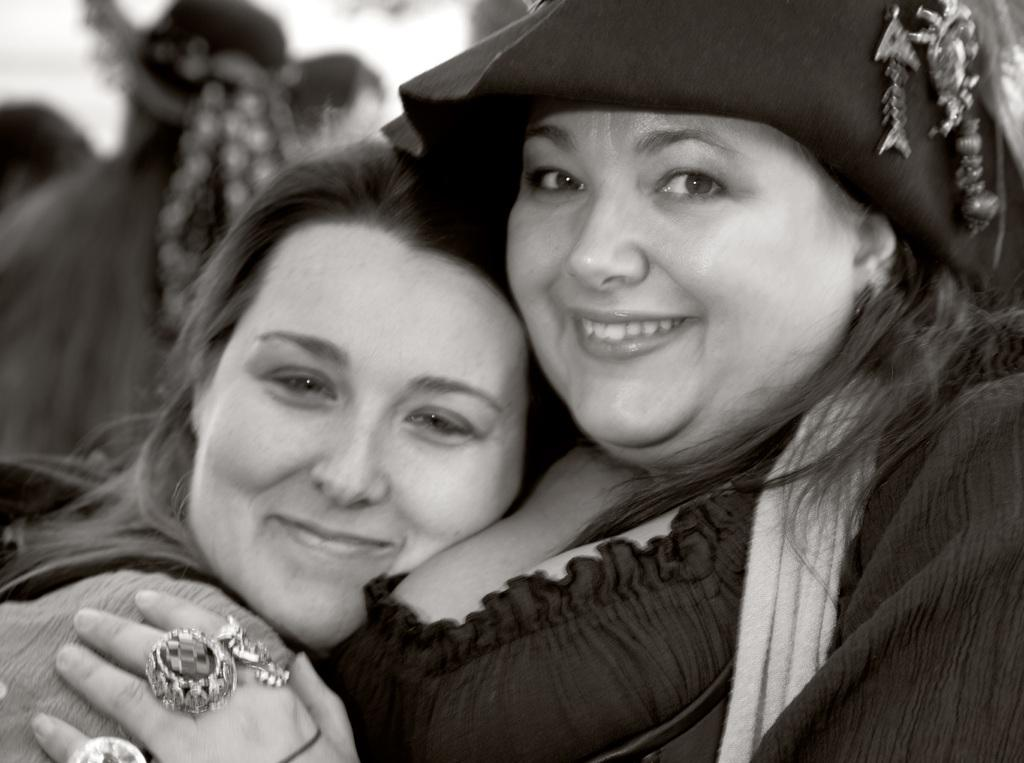Hat: (380, 0, 1024, 293)
